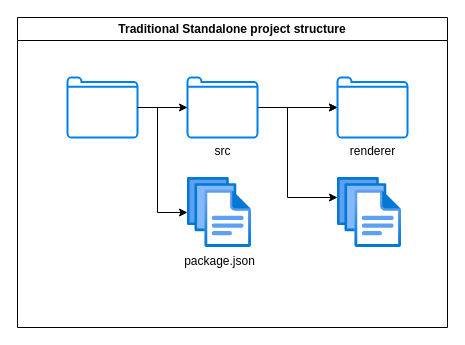
Image size: 465x345. Some labels were removed from this diagram. The centre of each missing label's shape, as x and y in pixels:
"Main Renderer Files" belongs at point (369, 212).
"root" belongs at point (102, 107).
